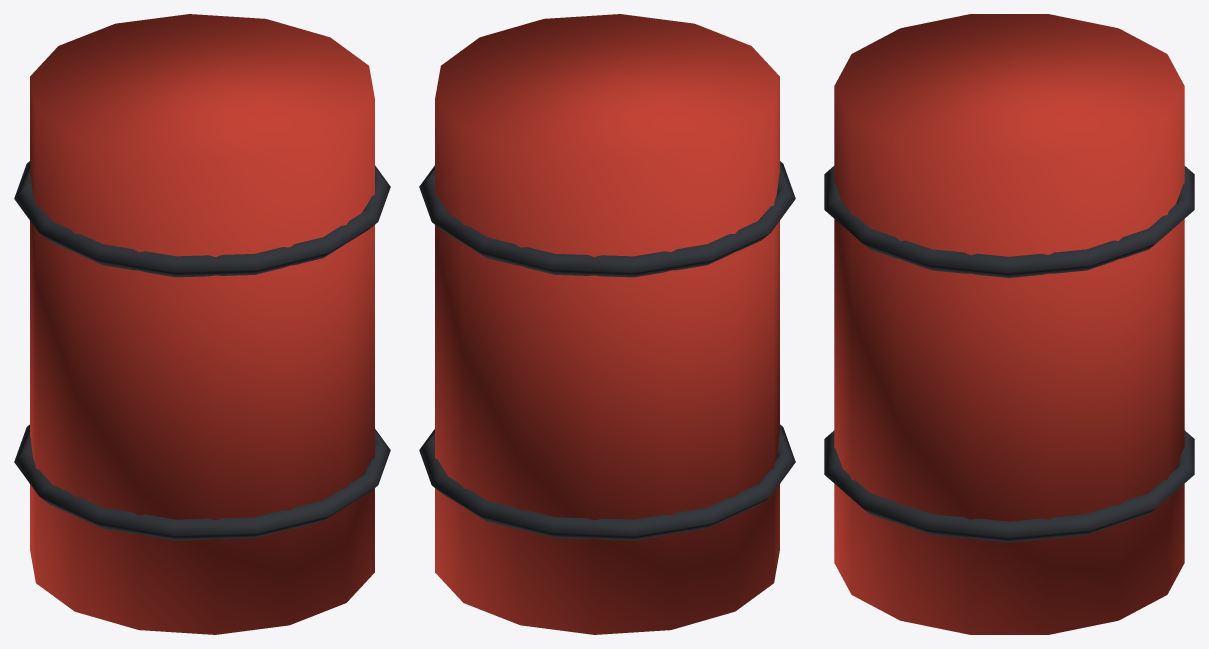
File: prop_tong_merah.glb
The picture shows the model from 3 angles, left to right: view 1: azimuth 30°, elevation 25°; view 2: azimuth 150°, elevation 25°; view 3: azimuth 270°, elevation 25°; orthographic projection.
Parts seen in each view (by area): view 1: tong_merah; view 2: tong_merah; view 3: tong_merah.
Boxes of the visible parts, left/top/right/bottom form: tong_merah: left=14, top=14, right=390, bottom=634; tong_merah: left=419, top=14, right=795, bottom=634; tong_merah: left=824, top=14, right=1194, bottom=634.
Bounding box in the file's own units: 0.65 × 0.9 × 0.6337.
